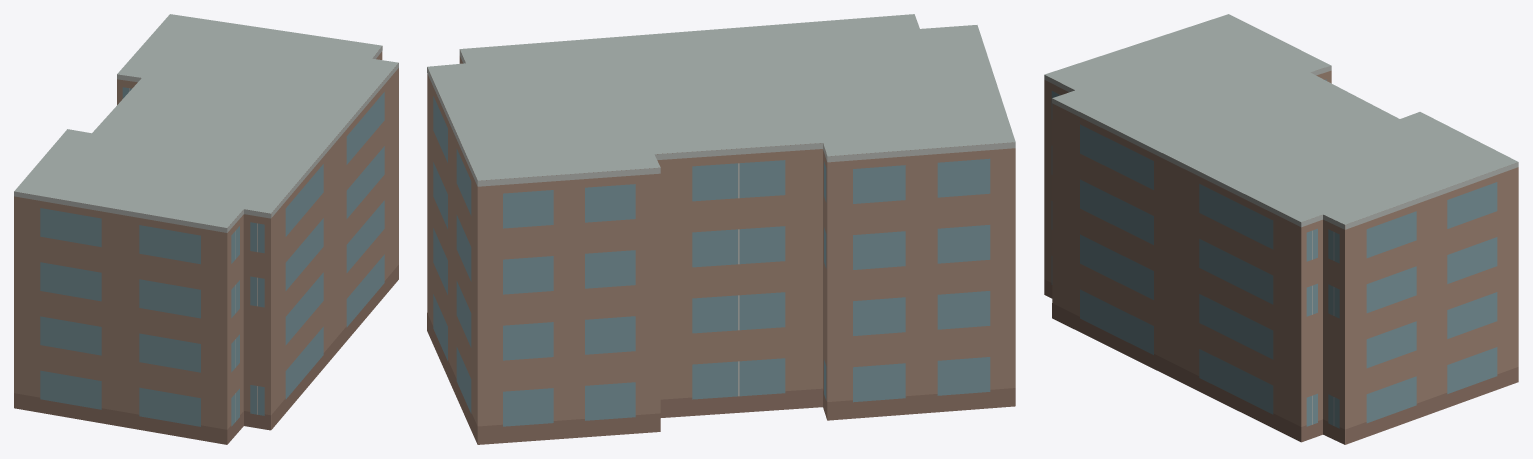
The model's file is survey-upis-33018364.glb.
The picture shows the model from 3 angles, left to right: view 1: azimuth 30°, elevation 25°; view 2: azimuth 150°, elevation 25°; view 3: azimuth 270°, elevation 25°; orthographic projection. The views are drawn at different scales.
Visible parts, largest first — view 1: survey-upis-33018364.tmp; view 2: survey-upis-33018364.tmp; view 3: survey-upis-33018364.tmp.
Part boxes in pixels (x1,y1,x2,y2): survey-upis-33018364.tmp: [14, 14, 398, 444]; survey-upis-33018364.tmp: [427, 14, 1015, 444]; survey-upis-33018364.tmp: [1044, 14, 1518, 444].
Bounding box in the file's own units: 21.91 × 10.66 × 20.83.
